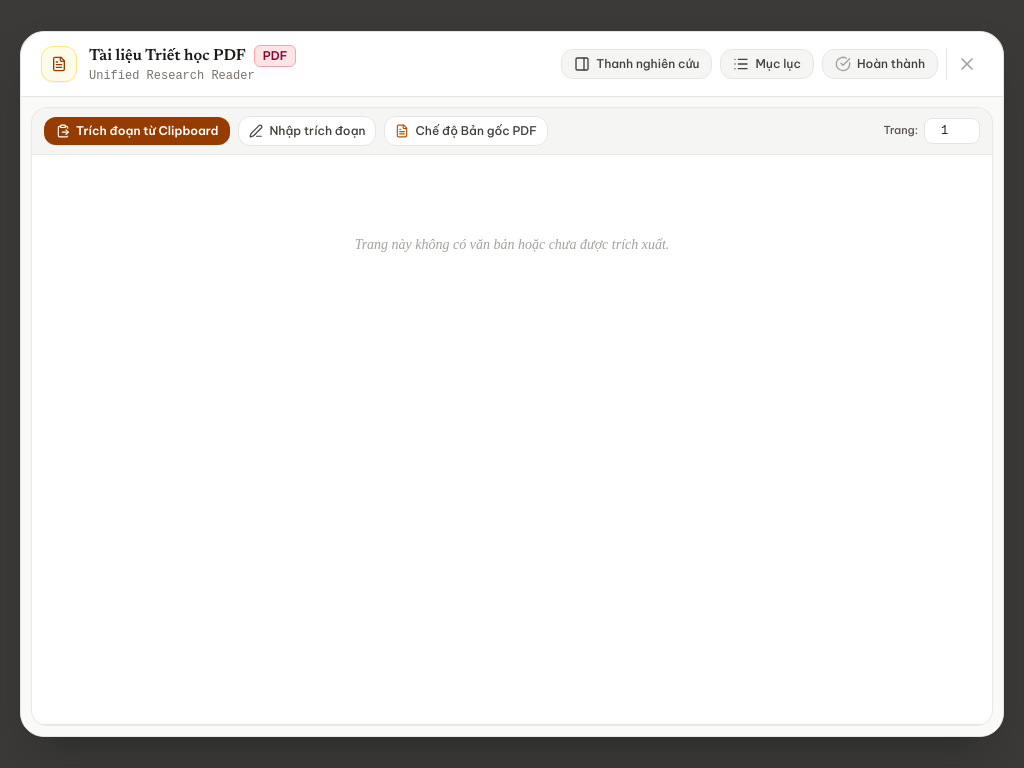
Phase R3: Reader Selection Toolbar Actions Persistence & Feedback (Red Stage) › 5. Add to inbox action successfully persists excerpt and shows confirmation toast
// Kích hoạt manual quote
Click the button with test id "pdf-manual-quote-btn". click: click(308, 131)
box: [238,116,376,146]
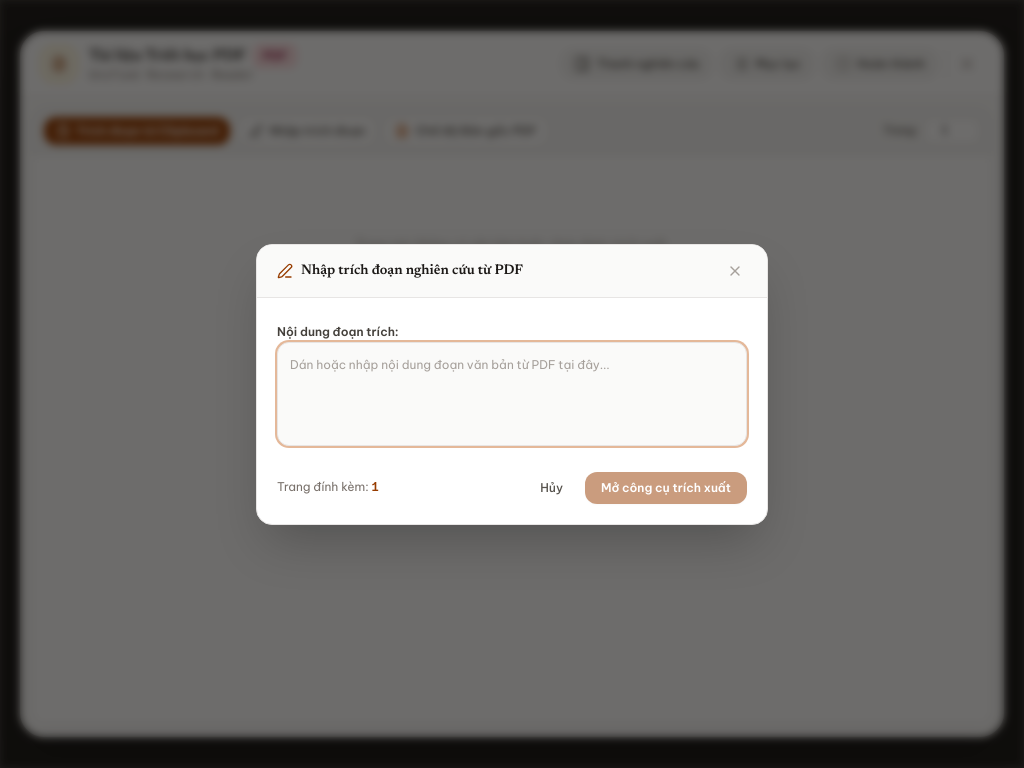
Type "Nội dung gửi vào inbox" into the text box with test id "pdf-manual-quote-textarea". click: (512, 394)
box: [277,342,747,446]
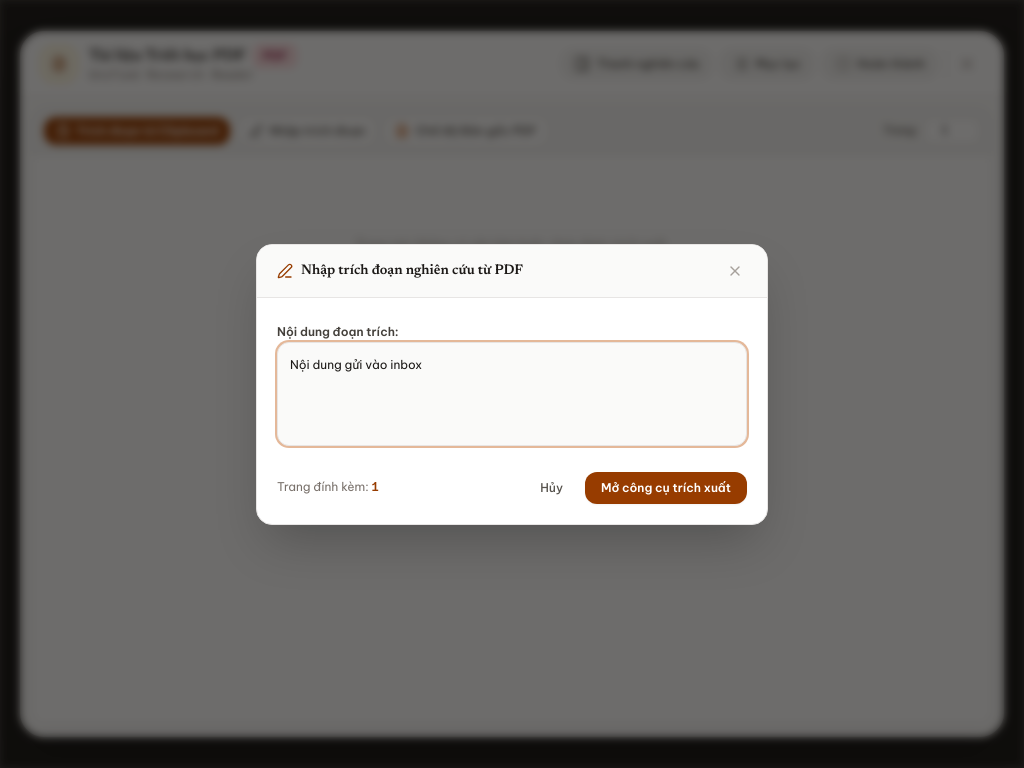
Click the button with test id "pdf-manual-quote-submit-btn". click: click(666, 488)
box: [585,472,747,504]
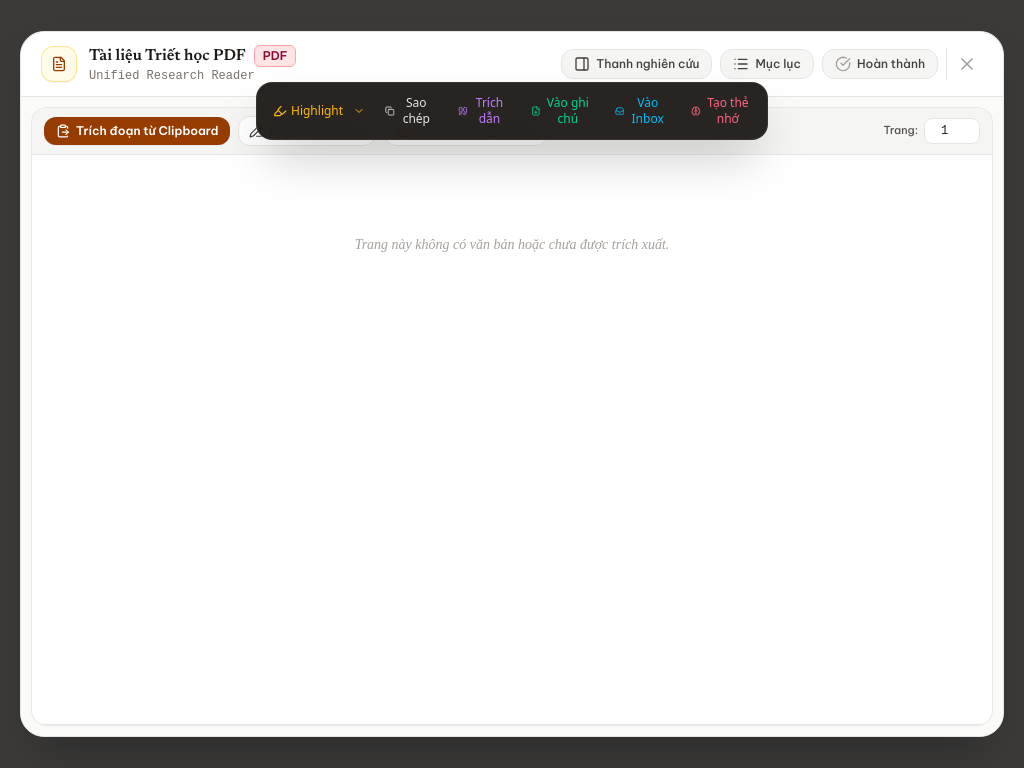
Click the button with aria-label "Thêm vào Inbox". click: click(641, 111)
box: [605,89,677,133]
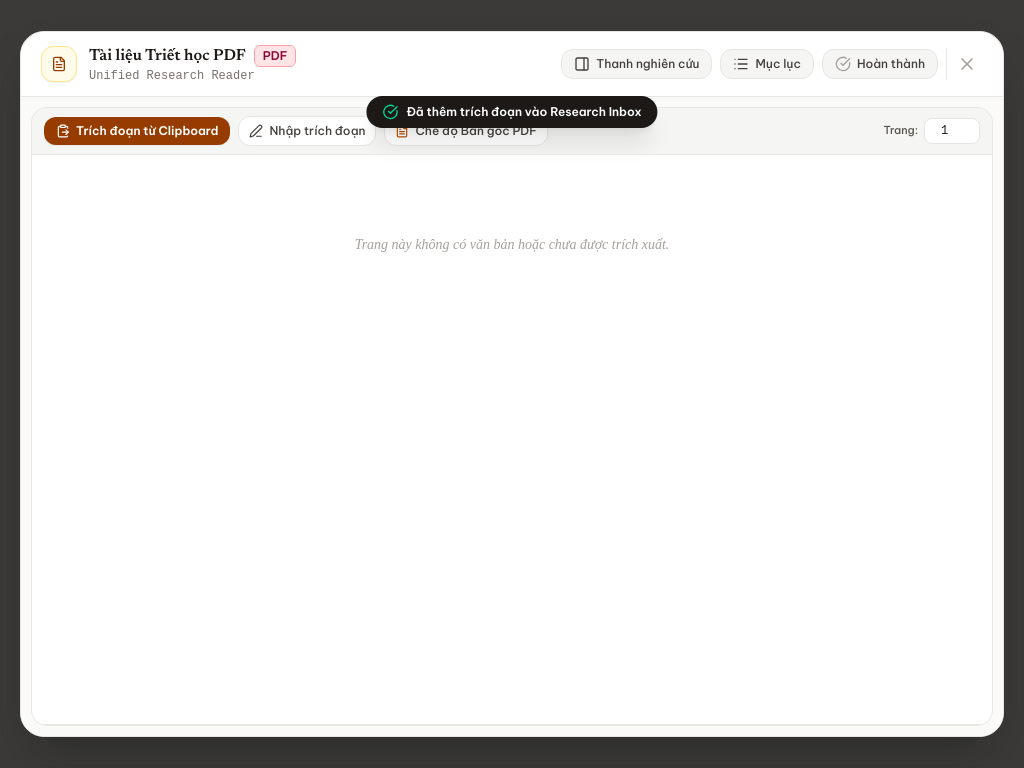
Expected: the text "Đã thêm trích đoạn vào Research Inbox" is shown, [406,104,642,120]
